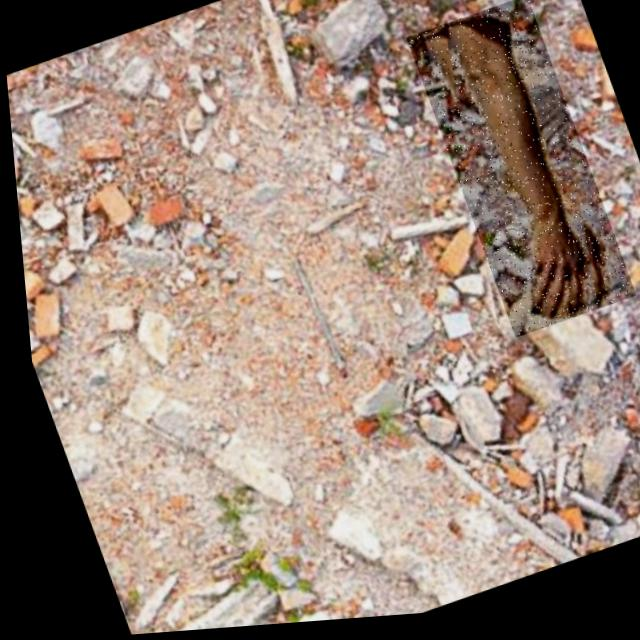Person in Rubble: (402, 0, 632, 349)
